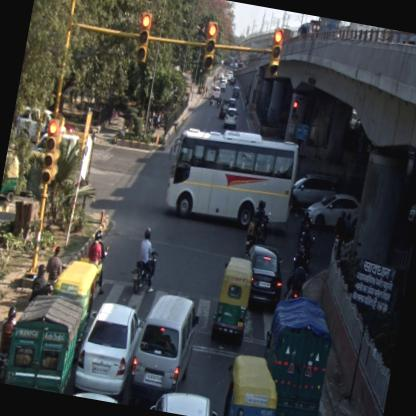bus: (158, 120, 302, 239)
car: (127, 290, 202, 400), (71, 298, 144, 396), (233, 238, 290, 314), (302, 186, 362, 233), (288, 167, 340, 214), (150, 387, 222, 415), (223, 108, 239, 128), (231, 84, 240, 100), (219, 104, 229, 118), (212, 85, 221, 99)
motorcycle: (128, 226, 166, 298), (82, 229, 116, 295), (0, 303, 18, 383), (245, 199, 273, 243), (208, 92, 216, 104), (216, 95, 221, 107)
truck: (250, 293, 339, 415), (5, 288, 86, 394)
